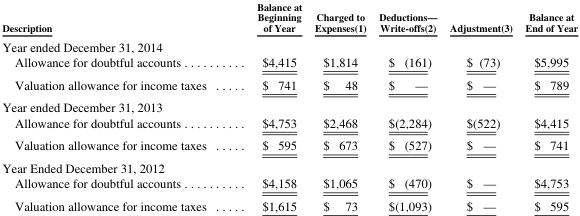table: (1, 0, 577, 212)
table column: (1, 0, 231, 212), (231, 0, 307, 212), (442, 0, 518, 212), (371, 0, 442, 212), (307, 0, 371, 212), (518, 0, 577, 212)
table column header: (1, 0, 577, 36)
table projected row header: (1, 95, 577, 114), (1, 156, 577, 175), (1, 36, 577, 54)
table row: (1, 0, 577, 36), (1, 72, 577, 95), (1, 133, 577, 156), (1, 95, 577, 114), (1, 114, 577, 133), (1, 156, 577, 175), (1, 175, 577, 194), (1, 36, 577, 54), (1, 54, 577, 72), (1, 194, 577, 212)
